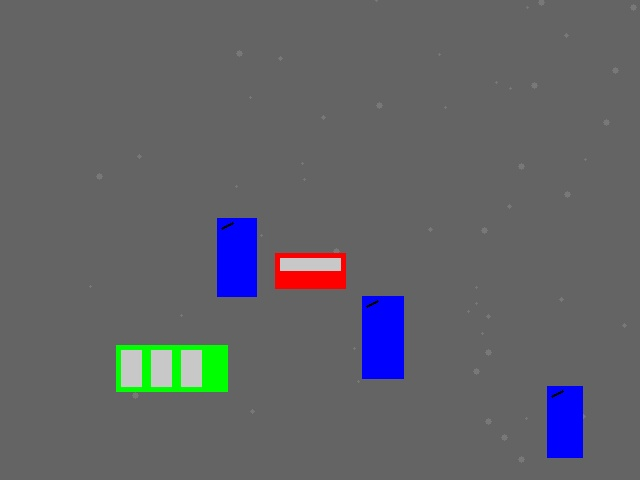bus: (116, 345, 227, 391)
car: (275, 253, 345, 288)
motorcycle: (362, 296, 403, 378), (217, 218, 256, 296), (547, 386, 582, 457)
